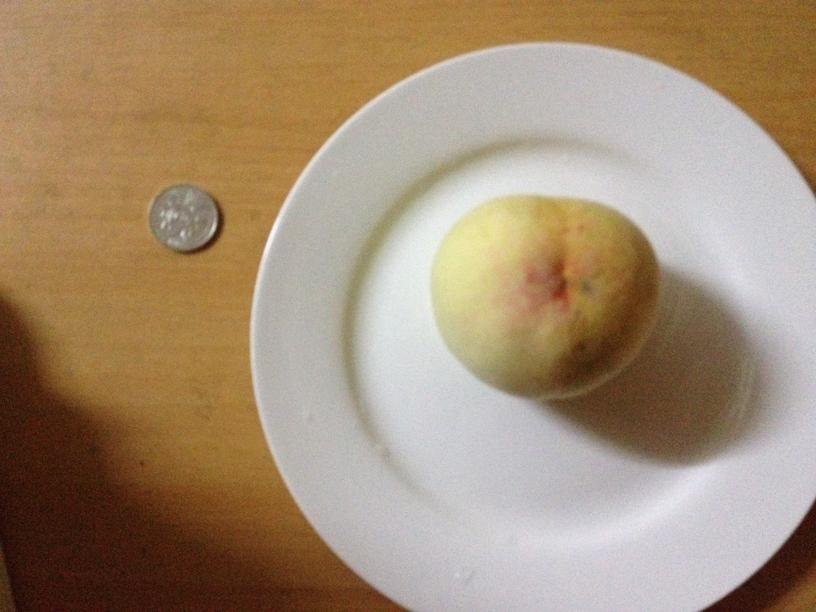coin: (146, 182, 218, 251)
peach: (427, 196, 659, 397)
